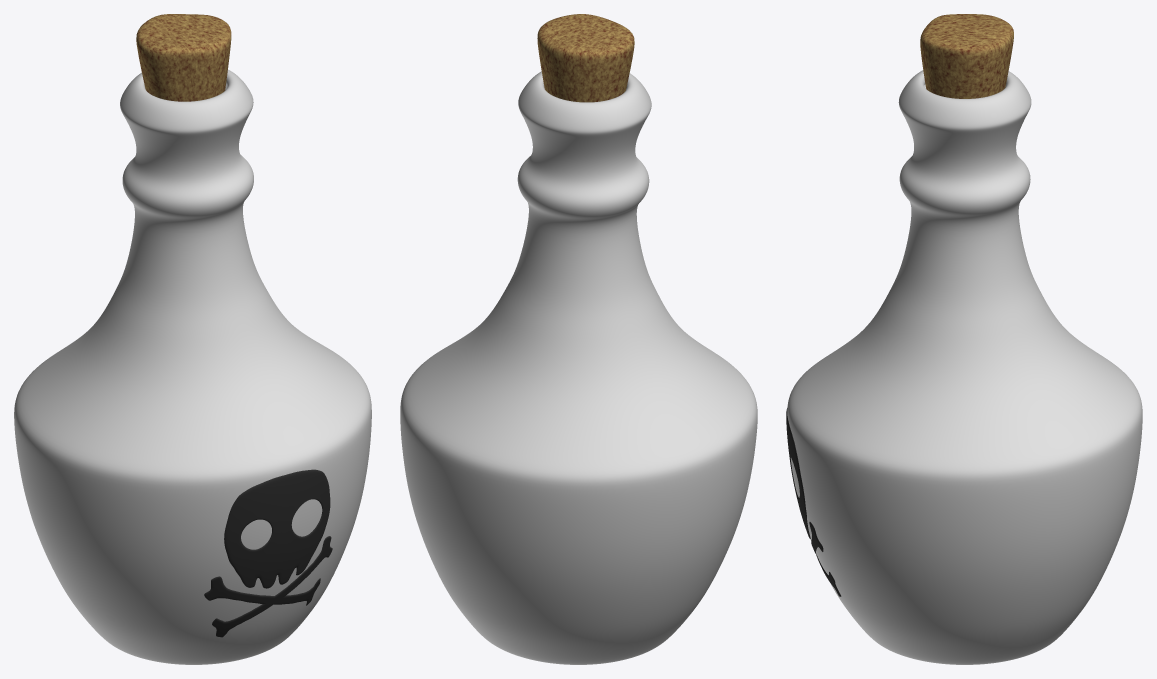
The model's file is poison_bottle2.gltf.
3 views of the same model, side by side, from view 1: azimuth 30°, elevation 25°; view 2: azimuth 150°, elevation 25°; view 3: azimuth 270°, elevation 25° (orthographic).
Visible parts, largest first — view 1: poison potion.001, skull.001, Circle.001; view 2: poison potion.001, Circle.001; view 3: poison potion.001, Circle.001, skull.001.
Part boxes in pixels (x1,y1,x2,y2): poison potion.001: [14, 69, 371, 664]; skull.001: [204, 469, 332, 637]; Circle.001: [136, 14, 231, 101]; poison potion.001: [400, 71, 757, 664]; Circle.001: [537, 14, 634, 102]; poison potion.001: [787, 70, 1142, 664]; Circle.001: [920, 14, 1013, 98]; skull.001: [786, 408, 841, 596].
Bounding box in the file's own units: 3.87 × 7.15 × 3.88.
Materials: 4 (1 with a texture image).
